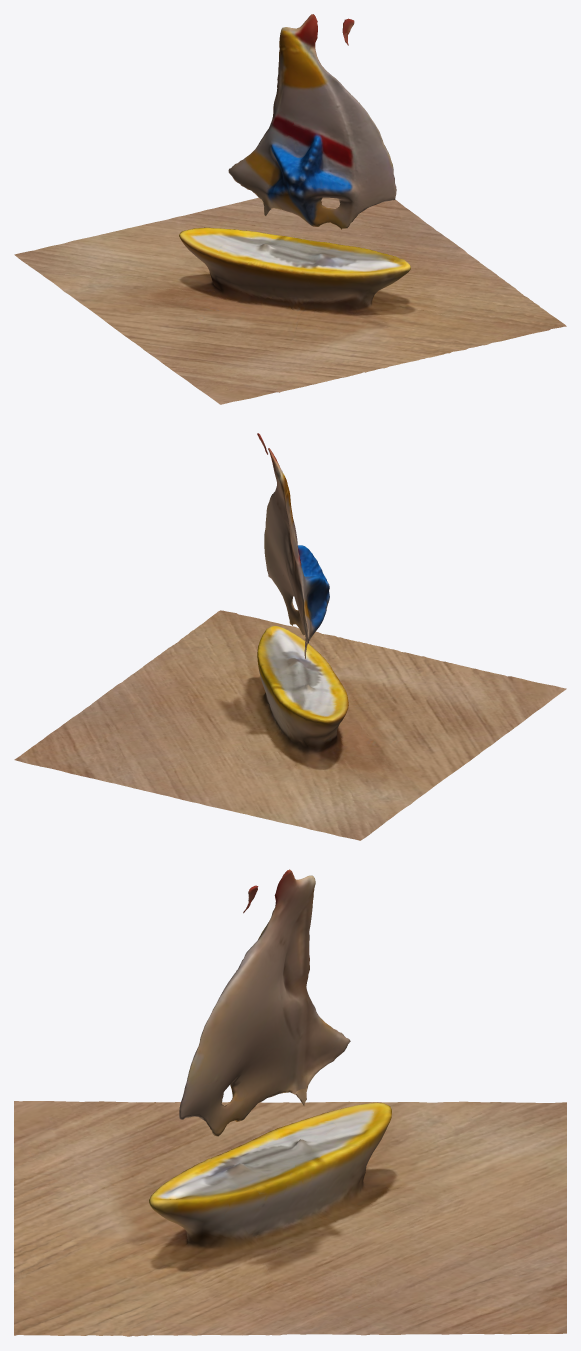
Rendered from 3DModel.obj.
The picture shows the model from 3 angles, top to bottom: view 1: azimuth 30°, elevation 25°; view 2: azimuth 150°, elevation 25°; view 3: azimuth 270°, elevation 25°; orthographic projection. The views are drawn at different scales.
Visible parts, largest first — view 1: 3DModel; view 2: 3DModel; view 3: 3DModel.
Boxes of the visible parts, box(x1,y1,x2,y2) form: 3DModel: box(14, 14, 566, 404); 3DModel: box(14, 433, 566, 840); 3DModel: box(14, 869, 566, 1336).
Bounding box in the file's own units: 0.5786 × 0.4386 × 0.5972.
1 material, 1 textured.
